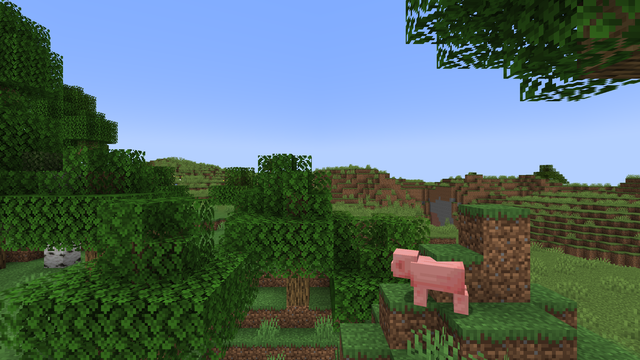cochons: (408, 254, 469, 313)
